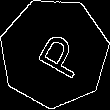P_NW: (23, 25, 85, 81)
